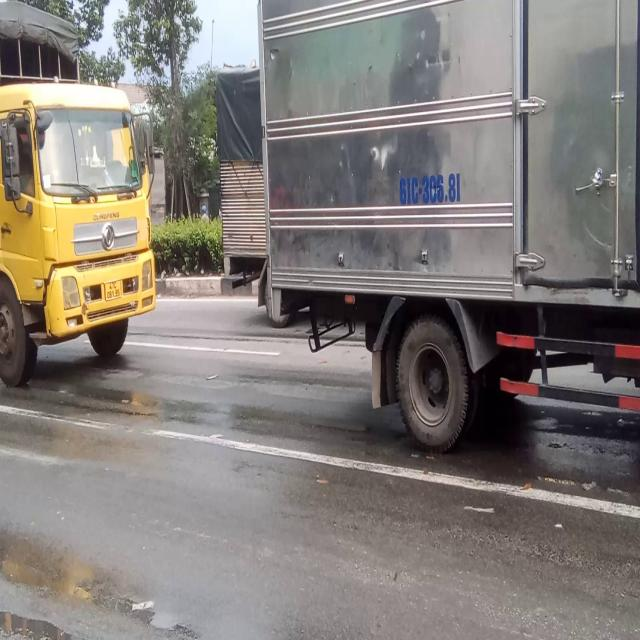bien_vang: (101, 275, 125, 302)
